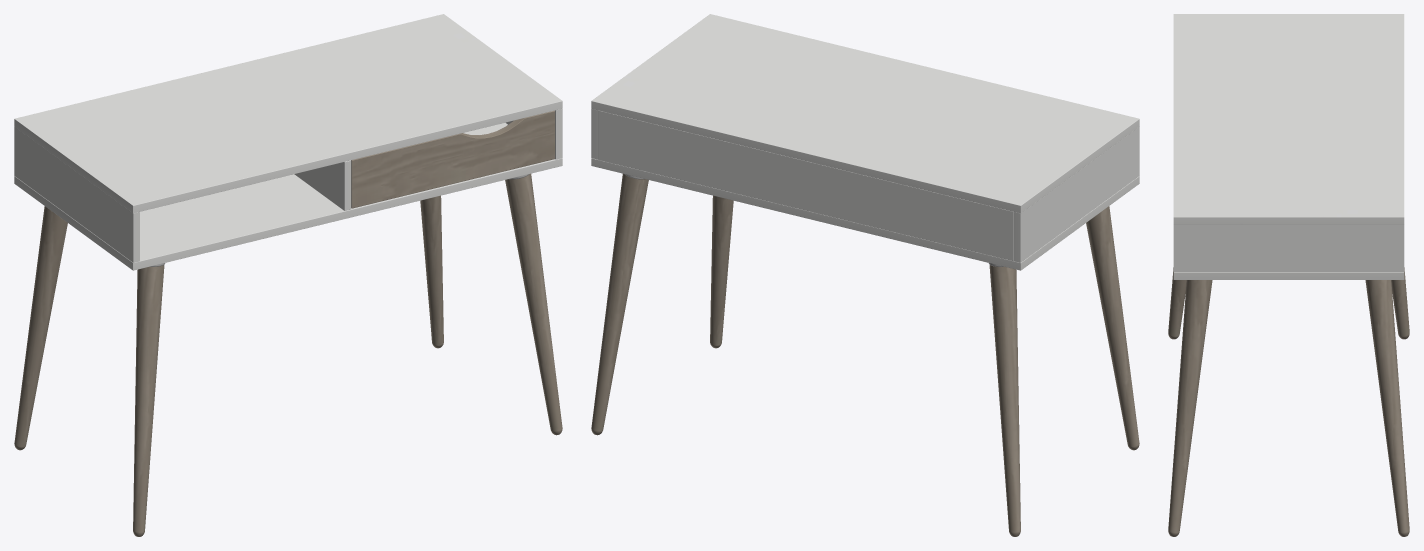
Rendered from B079HYXWPC.glb.
The picture shows the model from 3 angles, left to right: view 1: azimuth 30°, elevation 25°; view 2: azimuth 150°, elevation 25°; view 3: azimuth 270°, elevation 25°; orthographic projection. The views are drawn at different scales.
Visible parts, largest first — view 1: RootNode; view 2: RootNode; view 3: RootNode.
Boxes of the visible parts, x1,y1,x2,y2 form: RootNode: (14, 14, 562, 536); RootNode: (591, 14, 1139, 536); RootNode: (1168, 14, 1409, 536).
Bounding box in the file's own units: 0.9789 × 0.723 × 0.4914.
Materials: 1 (1 with a texture image).
